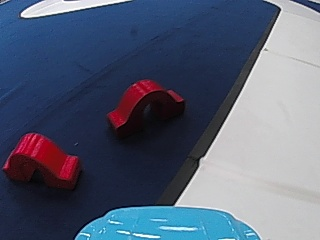bridge: (104, 75, 186, 140), (0, 130, 86, 191)
